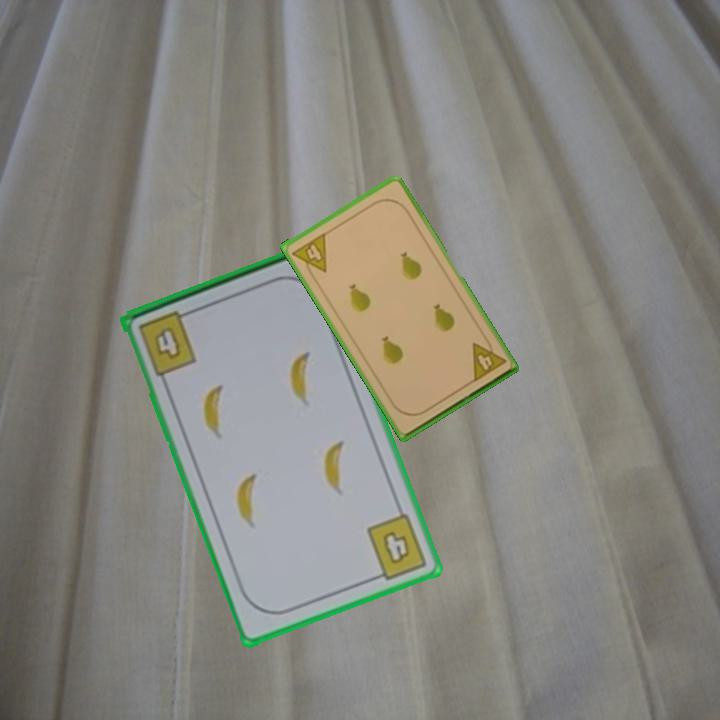4b: (363, 510, 431, 584), (134, 307, 200, 379)
4p: (288, 229, 330, 281), (468, 333, 509, 385)
